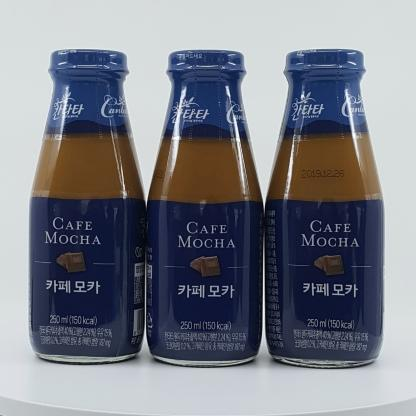------------250ML: (264, 49, 385, 368), (146, 50, 264, 367), (28, 49, 146, 364)
